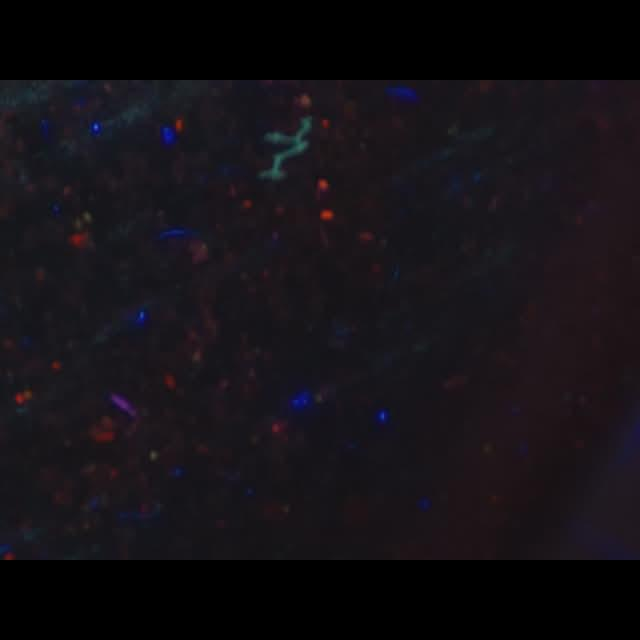Fibre: (260, 112, 314, 180)
